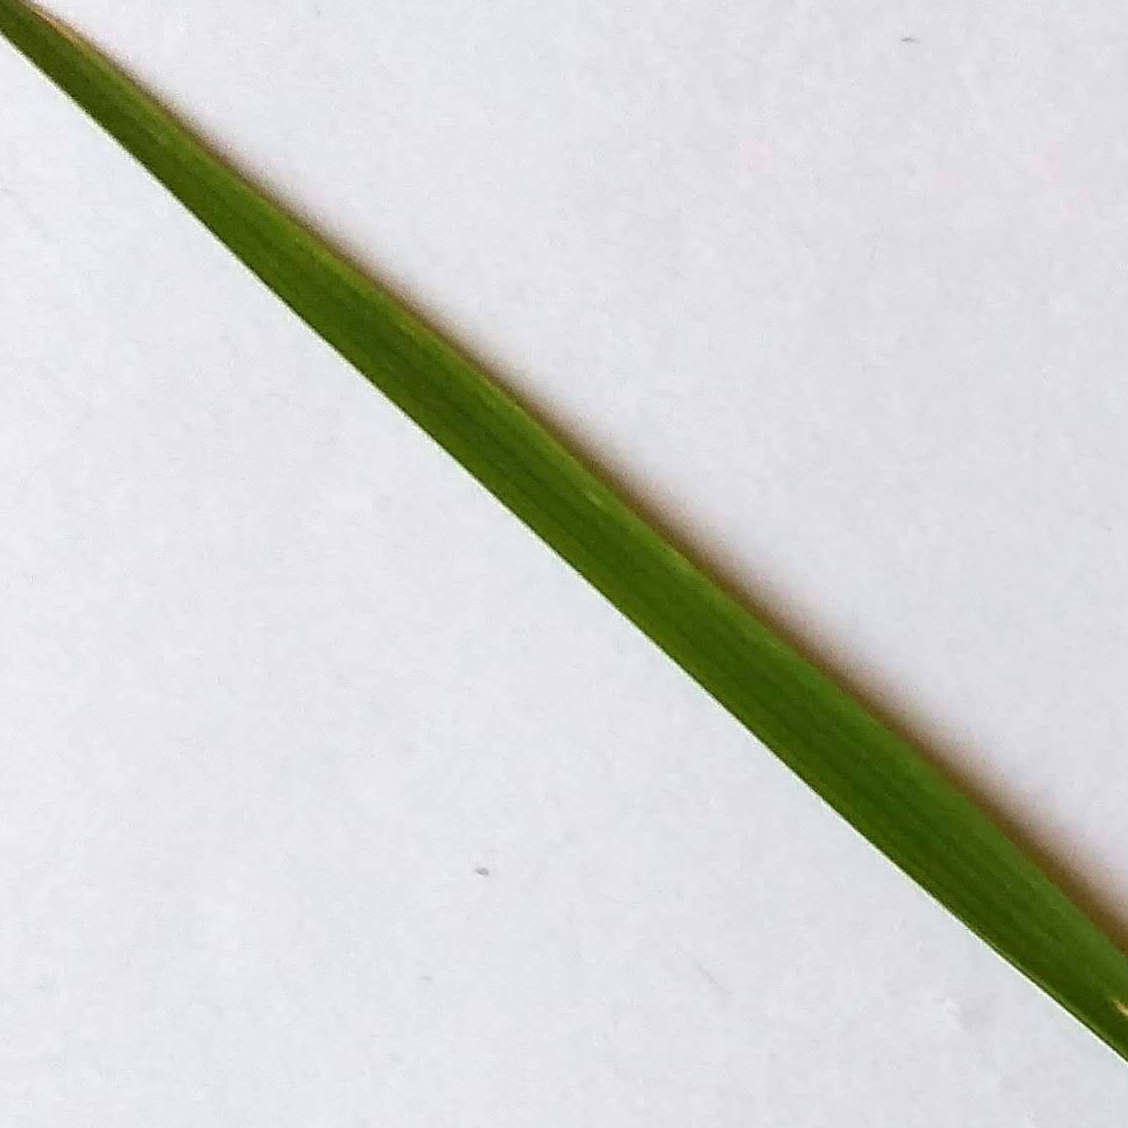hispa: (1, 1, 1128, 1064)
